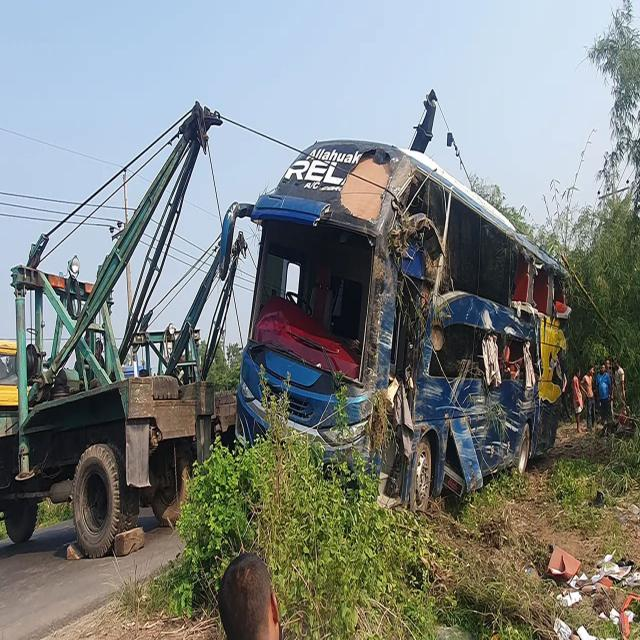Accident: (212, 71, 589, 532)
